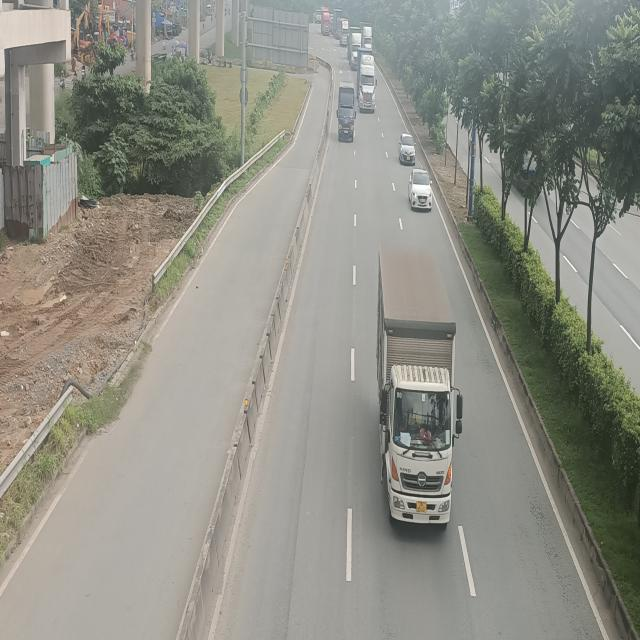car: (408, 167, 433, 211), (400, 133, 418, 164)
container: (358, 54, 376, 113), (349, 26, 362, 70)
truck: (376, 247, 466, 534), (338, 81, 357, 142)
